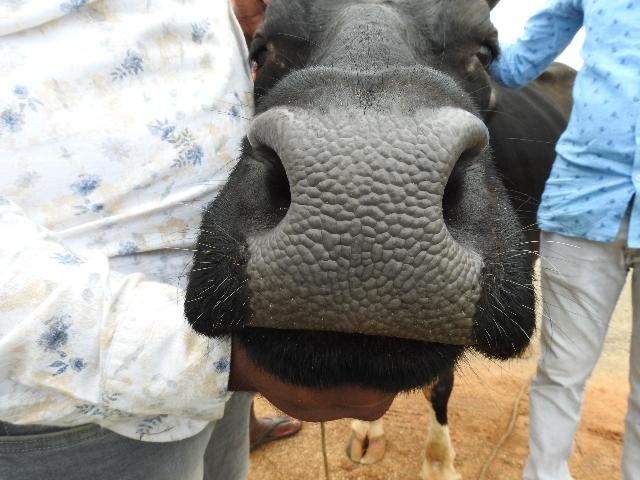Muzzle: (272, 114, 448, 326)
